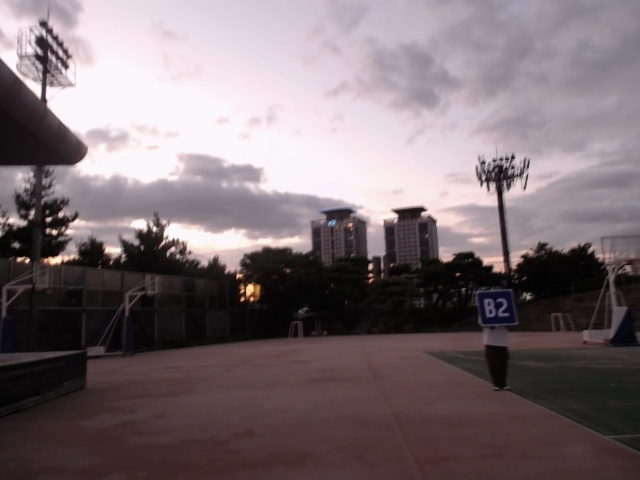delivery_b2: (474, 288, 519, 327)
